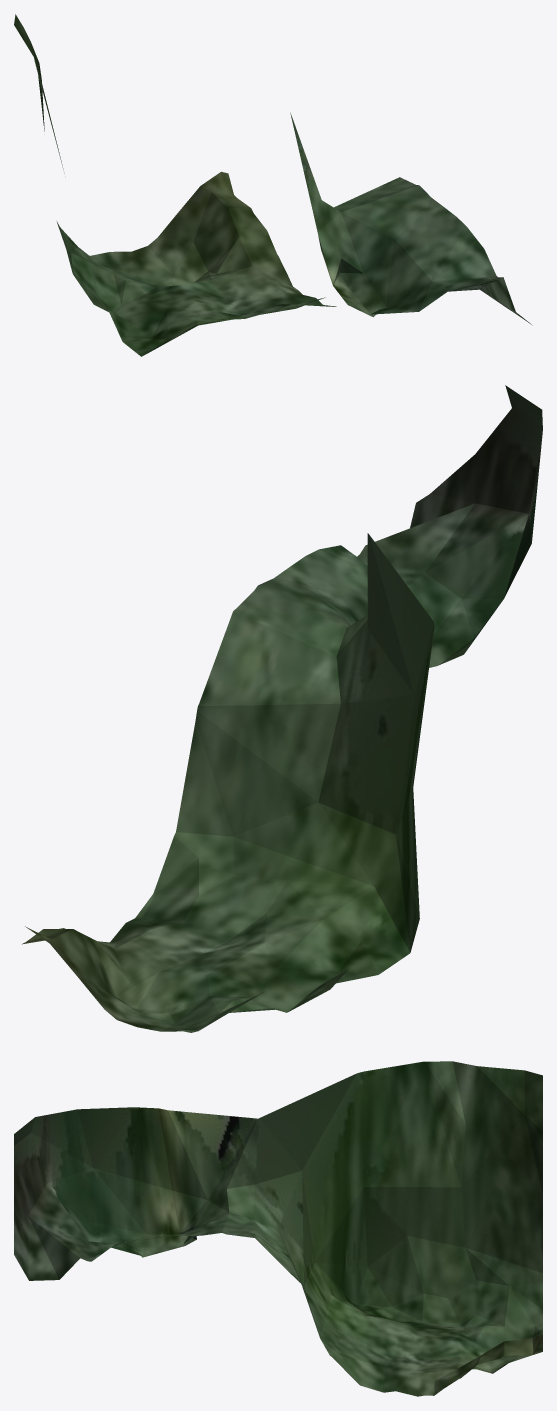
3 views of the same model, one above another, from view 1: azimuth 30°, elevation 25°; view 2: azimuth 150°, elevation 25°; view 3: azimuth 270°, elevation 25° (orthographic). The views are drawn at different scales.
Bounding box in the file's own units: 1.34 × 1.46 × 2.95.
Materials: 2 (2 with a texture image).
